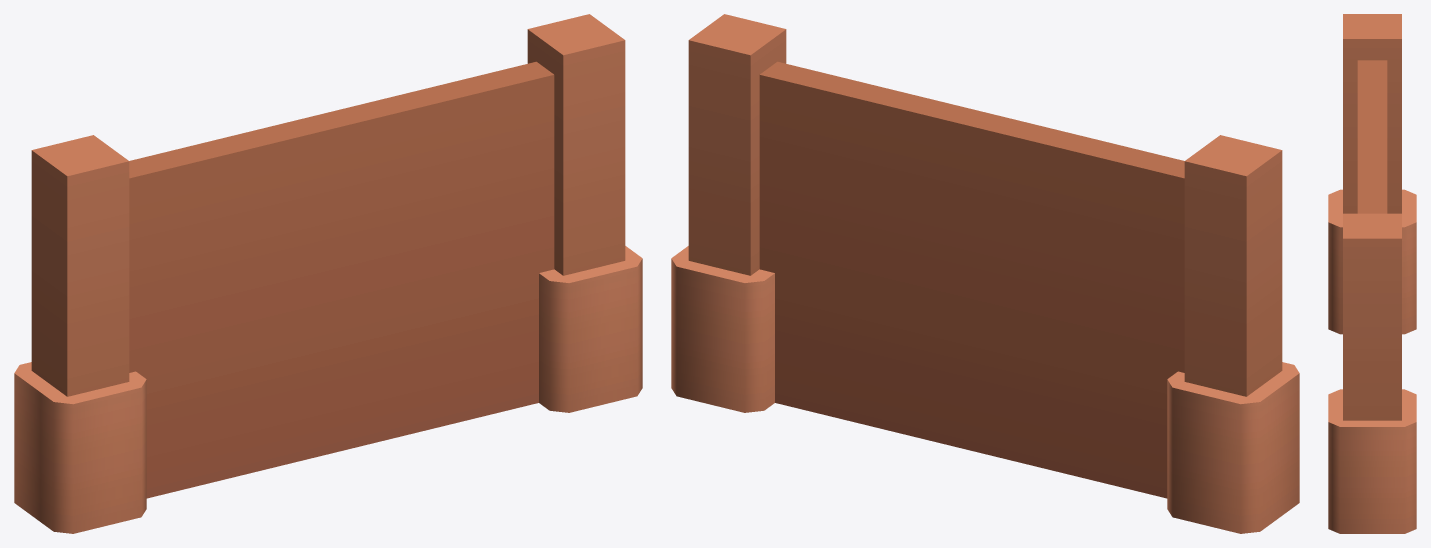
File: suburban.fence.glb
3 renders of one model, left to right at view 1: azimuth 30°, elevation 25°; view 2: azimuth 150°, elevation 25°; view 3: azimuth 270°, elevation 25°, orthographic. The views are drawn at different scales.
Visible parts, largest first — view 1: fence; view 2: fence; view 3: fence.
Boxes of the visible parts, x1,y1,x2,y2 form: fence: [14, 14, 642, 533]; fence: [671, 14, 1299, 533]; fence: [1328, 14, 1416, 533].
Bounding box in the file's own units: 2.61 × 1.49 × 0.4124.
1 material, 1 textured.
